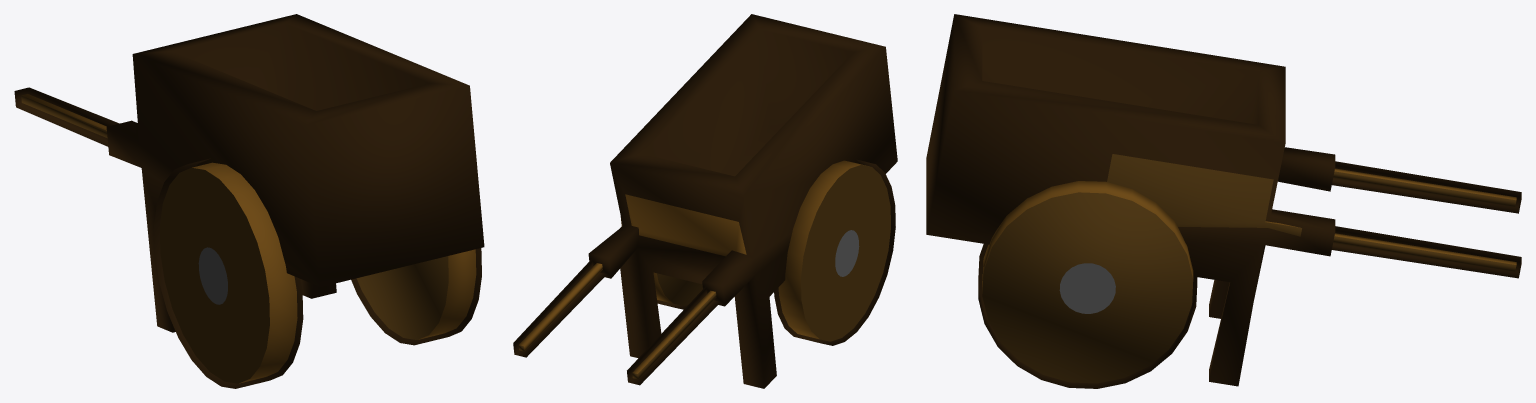
Rendered from Cart.FBX.
3 views of the same model, side by side, from view 1: azimuth 30°, elevation 25°; view 2: azimuth 150°, elevation 25°; view 3: azimuth 270°, elevation 25° (orthographic). The views are drawn at different scales.
Visible parts, largest first — view 1: Cart; view 2: Cart; view 3: Cart.
Boxes of the visible parts, x1,y1,x2,y2 form: Cart: (14,14,484,388); Cart: (513,14,897,388); Cart: (926,14,1521,388).
Size of the model in its own units: 124 by 169 by 309.
